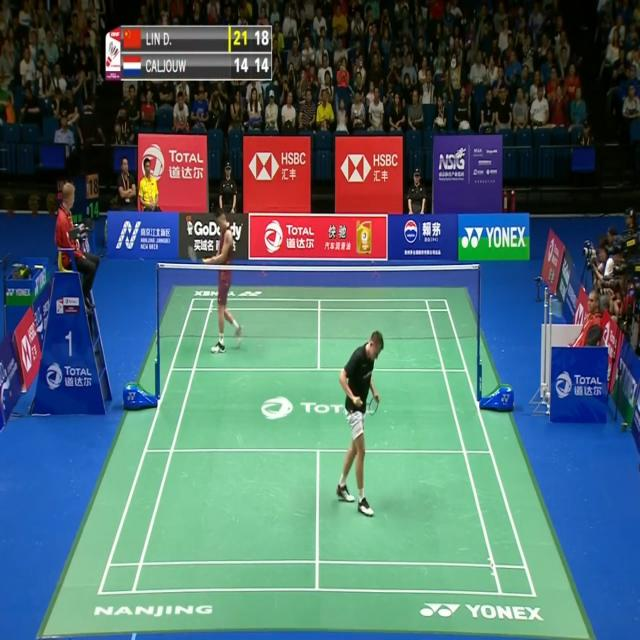Player1: (334, 311, 385, 524)
Player2: (189, 209, 249, 356)
